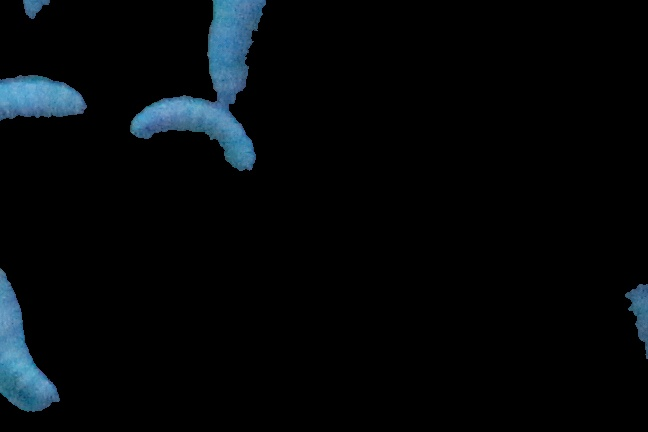larvae: (128, 93, 258, 173), (1, 261, 60, 413), (198, 1, 267, 105), (1, 69, 89, 126)
